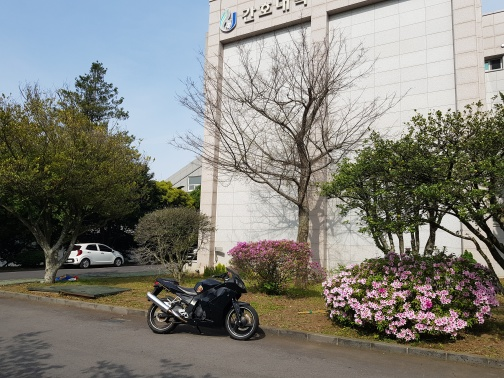College of Nursing: (200, 5, 487, 264)
